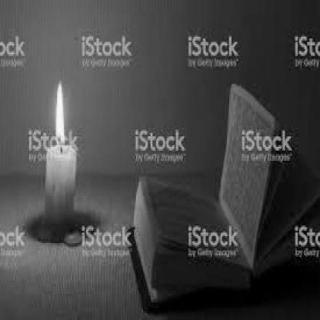Fire: (47, 76, 74, 156)
